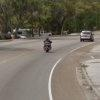Motorcycle: (39, 36, 58, 56)
